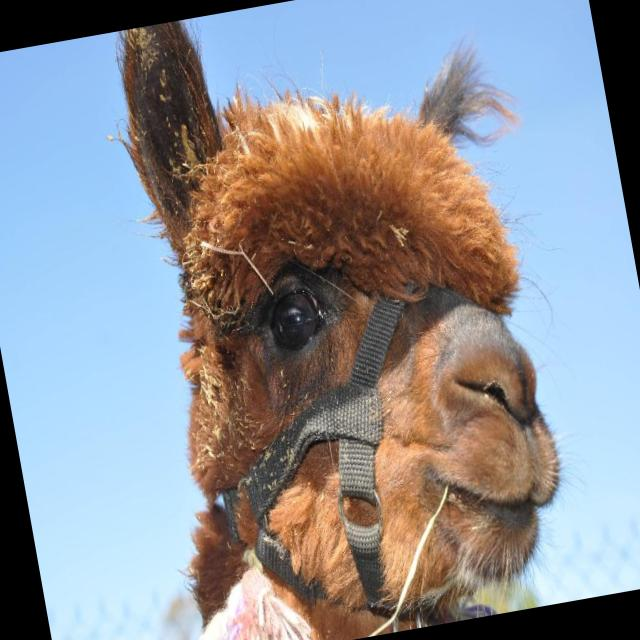alpaca: (94, 0, 589, 640)
